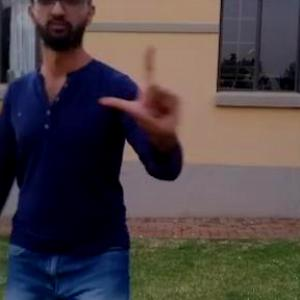land_hand: (96, 39, 186, 147)
